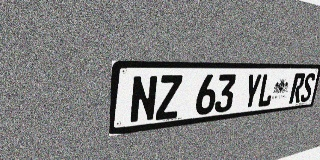3: (214, 74, 236, 113)
6: (195, 74, 219, 116)
L: (256, 73, 276, 108)
N: (129, 75, 158, 124)
R: (289, 73, 306, 104)
S: (299, 73, 316, 102)
Y: (242, 74, 262, 110)
Z: (155, 75, 183, 120)
